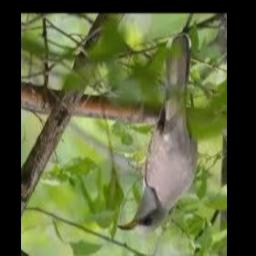Cuckoo: (118, 36, 197, 234)
